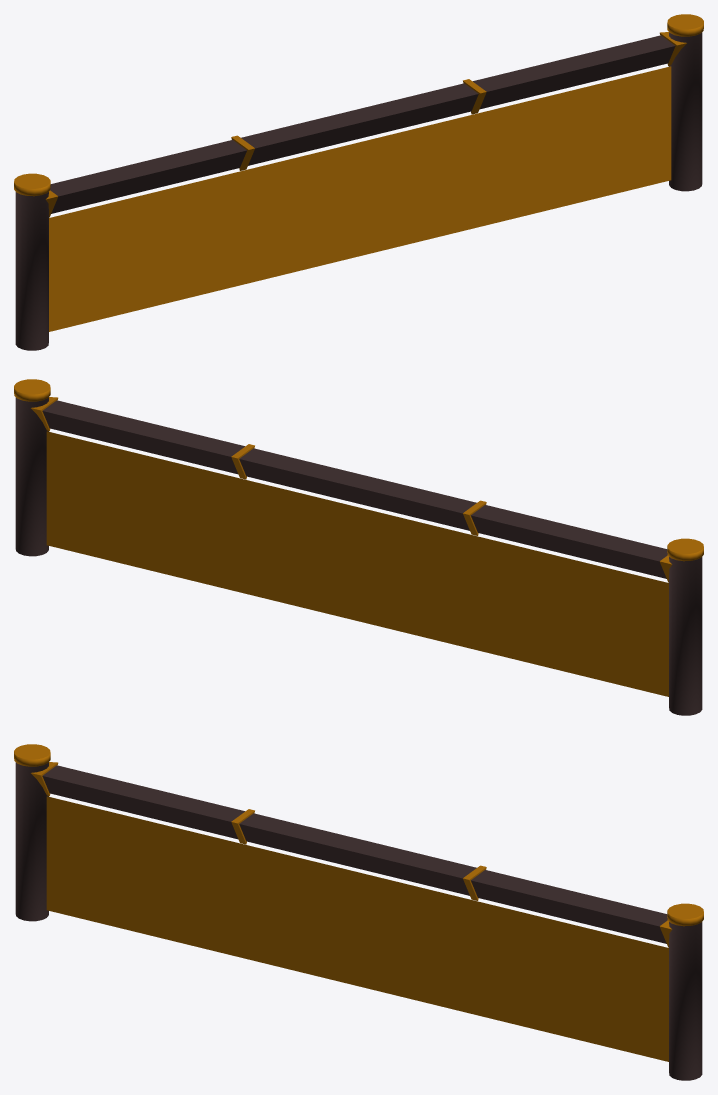
File: Railing.fbx
The picture shows the model from 3 angles, top to bottom: view 1: azimuth 30°, elevation 25°; view 2: azimuth 150°, elevation 25°; view 3: azimuth 330°, elevation 25°; orthographic projection.
Visible parts, largest first — view 1: Railing; view 2: Railing; view 3: Railing.
Boxes of the visible parts, left/top/right/bottom form: Railing: left=14, top=14, right=703, bottom=350; Railing: left=14, top=379, right=703, bottom=715; Railing: left=14, top=744, right=703, bottom=1080.
Size of the model in its own units: 472 by 107 by 22.
